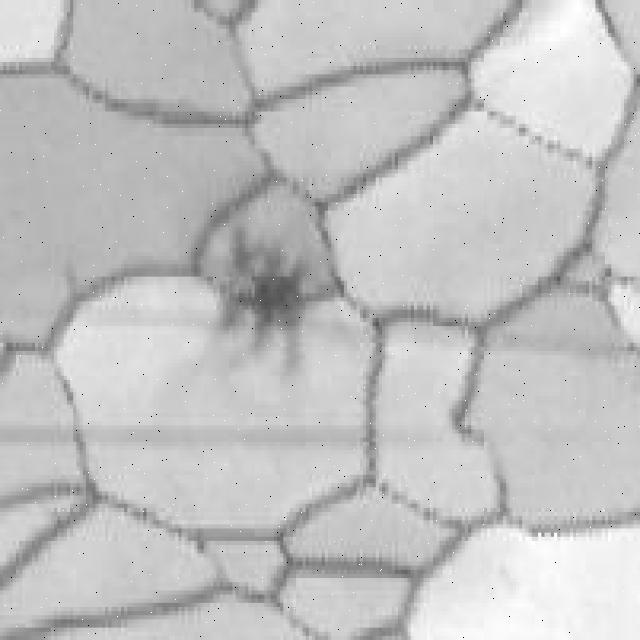good_void: (212, 229, 309, 380)
